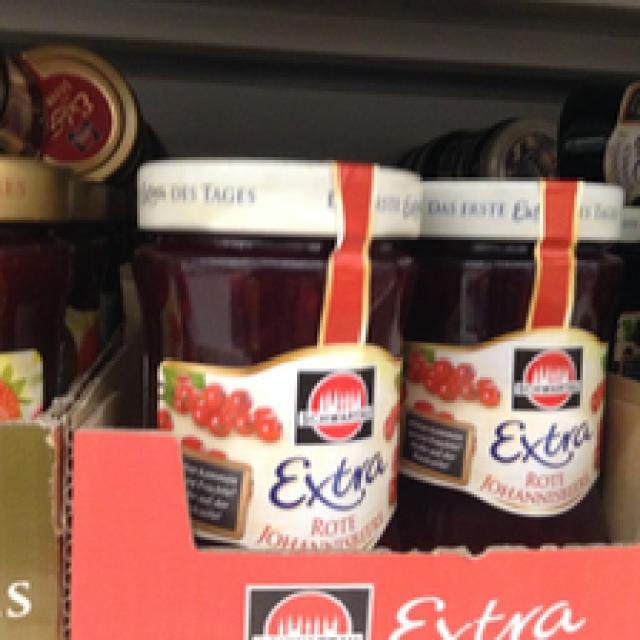groceries: (129, 154, 417, 546), (403, 171, 620, 546)
